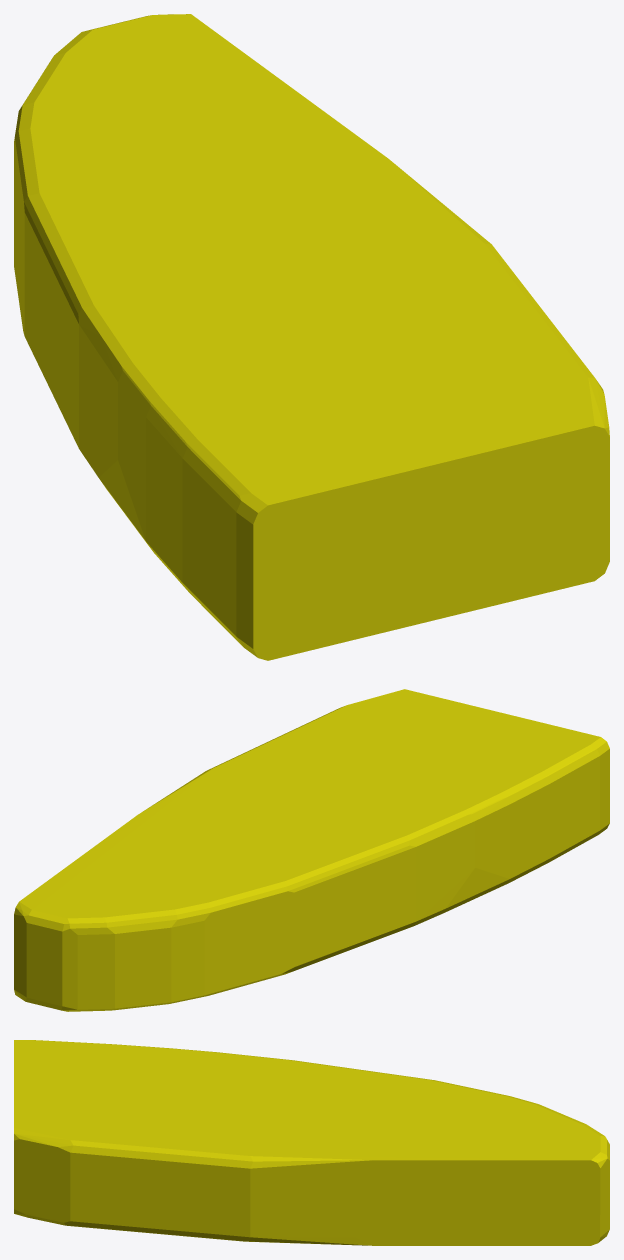
File: model5_convex_piece_002.obj
The picture shows the model from 3 angles, top to bottom: view 1: azimuth 30°, elevation 25°; view 2: azimuth 150°, elevation 25°; view 3: azimuth 270°, elevation 25°; orthographic projection. The views are drawn at different scales.
Bounding box in the file's own units: 0.0216 × 0.00695 × 0.0438.
